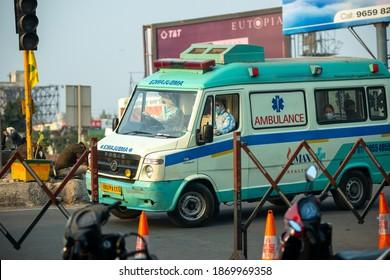ER: (85, 42, 390, 221)
